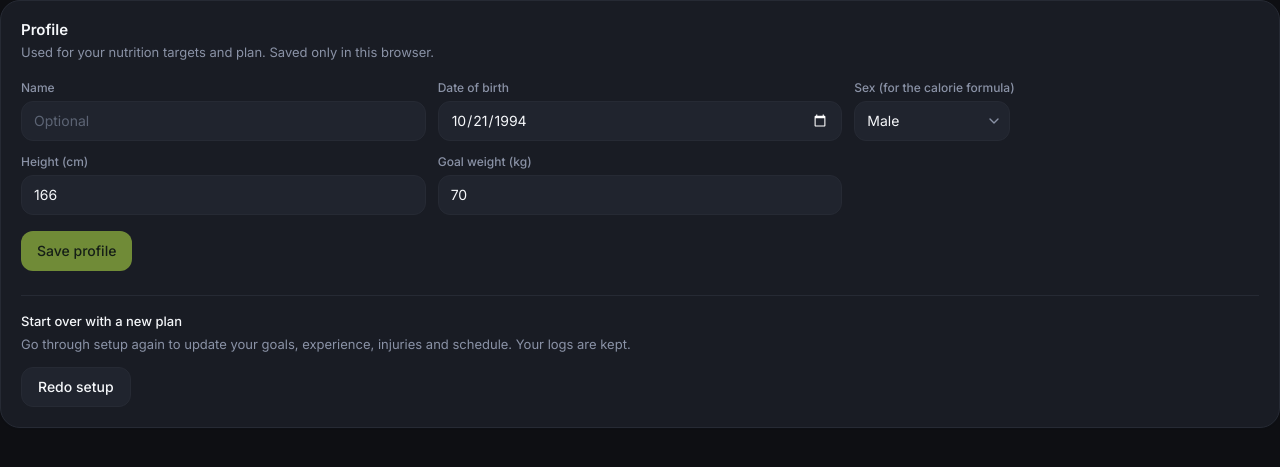
Test: ProfileCard › shows an accessible error for an out-of-range height
Replace the text in the number field labelled "Height (cm)" with "20": (223, 194) x1=21 y1=174 x2=426 y2=214
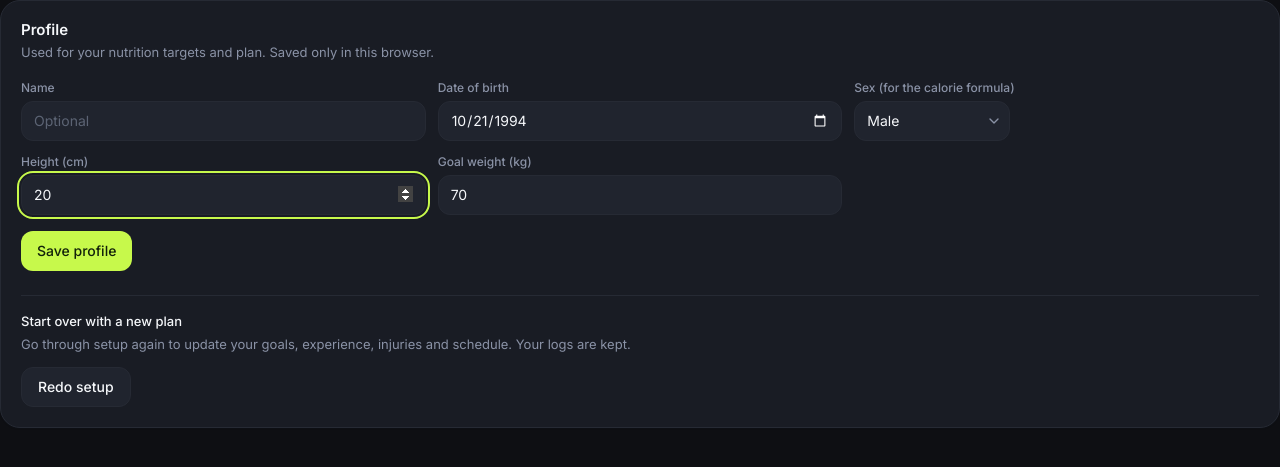
Click the button "Save profile": (77, 250) x1=21 y1=230 x2=132 y2=270
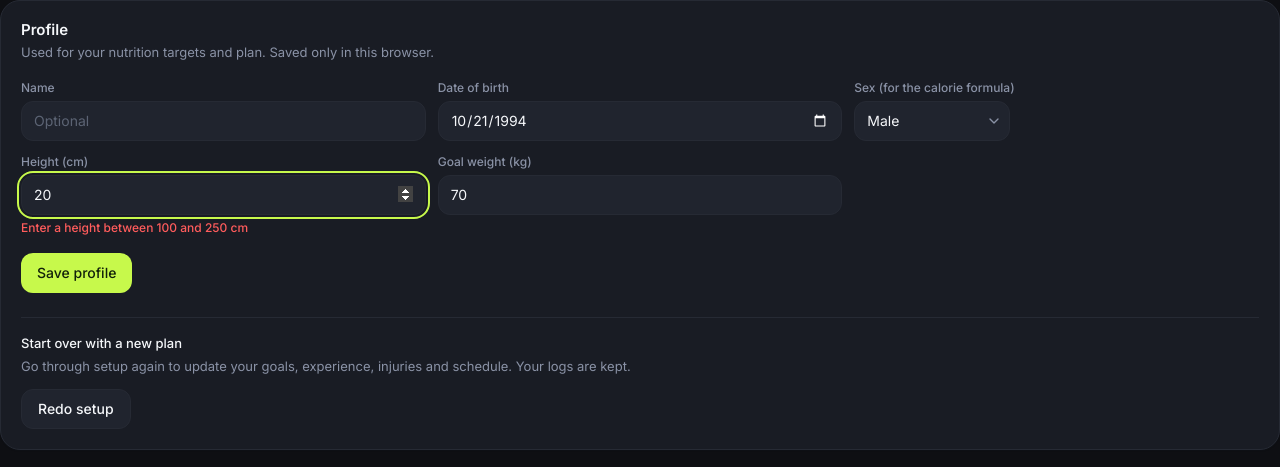
Result: the text "Enter a height between 100 and 250 cm" is shown at x1=21 y1=220 x2=248 y2=234
